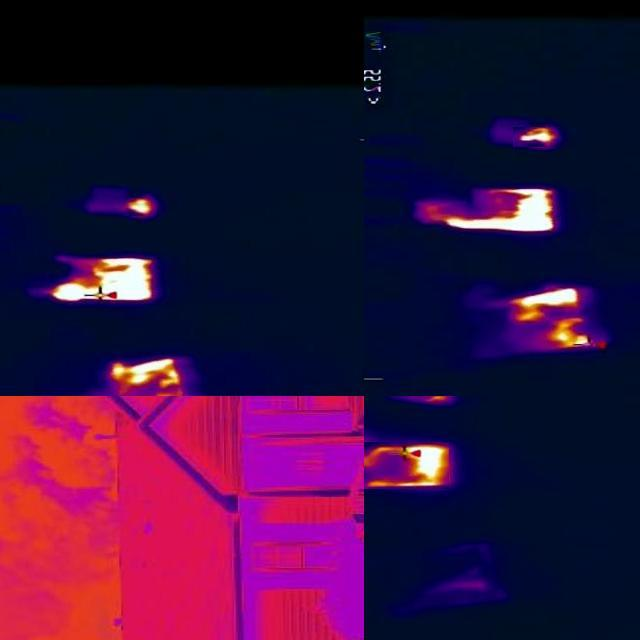fire: (415, 189, 559, 236), (507, 288, 597, 353), (44, 257, 157, 305), (365, 443, 449, 490), (108, 359, 192, 397), (513, 128, 559, 148), (125, 199, 156, 217), (416, 397, 455, 405)
